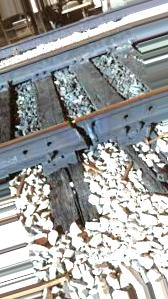tracks_fault: (62, 115, 109, 161)
